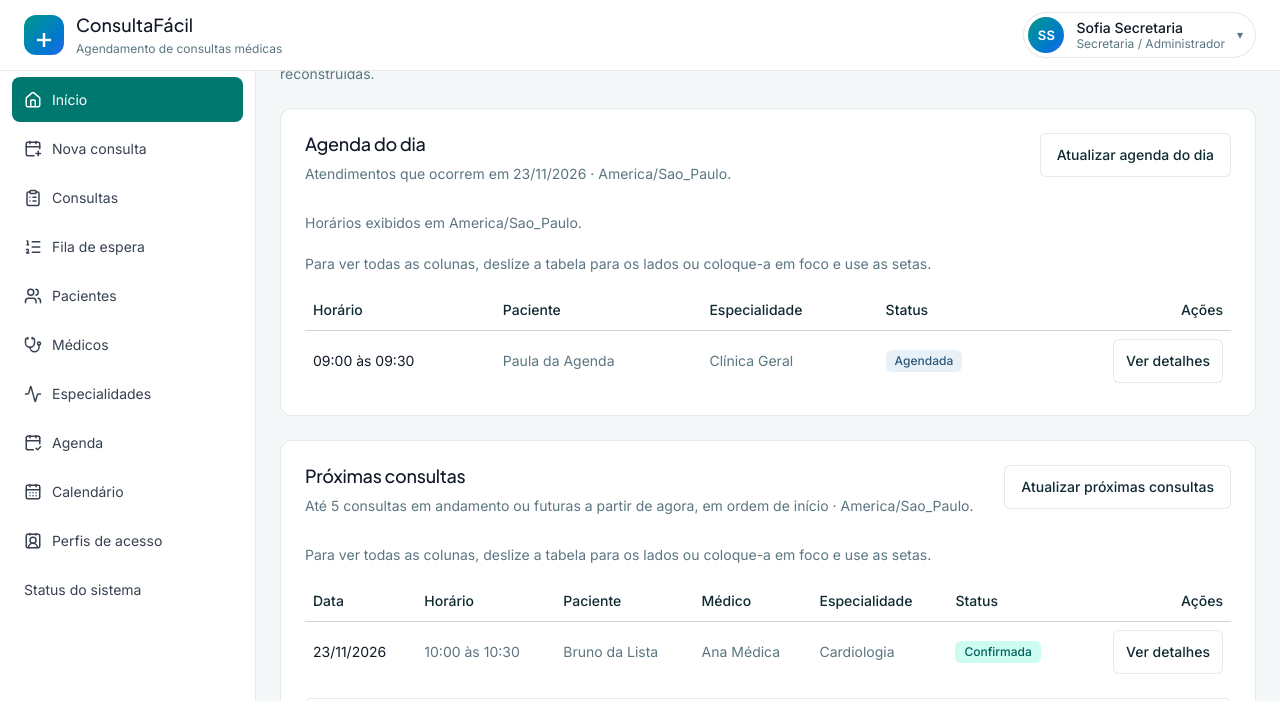
Scenario: abre o detalhe existente pela tabela Consultas na agenda do dia e volta com os filtros preservados
(page scrolled)
expect the text "Paula da Agenda" is shown: met, box [495,331,701,391]
expect the button "Cancelar consulta" is not shown: met
Click the link with aria-label "Ver detalhes da consulta": [1168, 361] box [1113,339,1223,383]
(page scrolled)
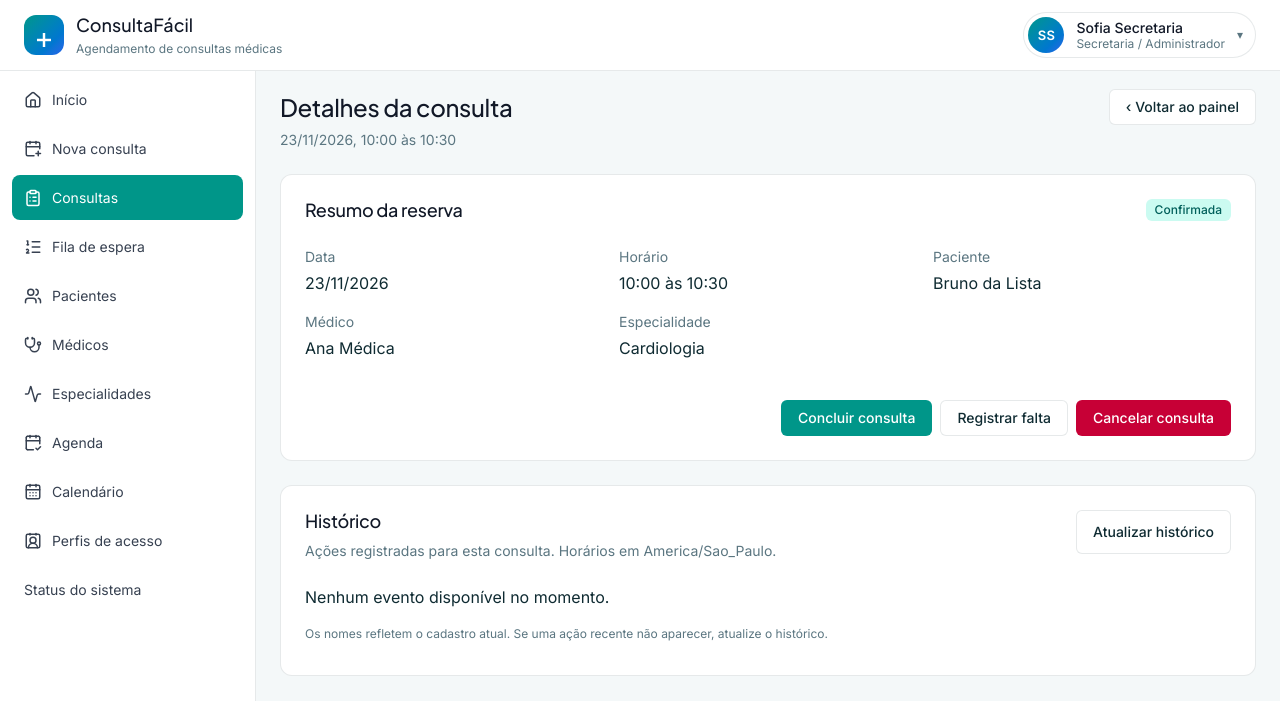
expect the heading "Detalhes da consulta" is shown: met, box [280,89,512,125]
Click the link "‹ Voltar ao painel": [1182, 107] box [1109,89,1256,125]
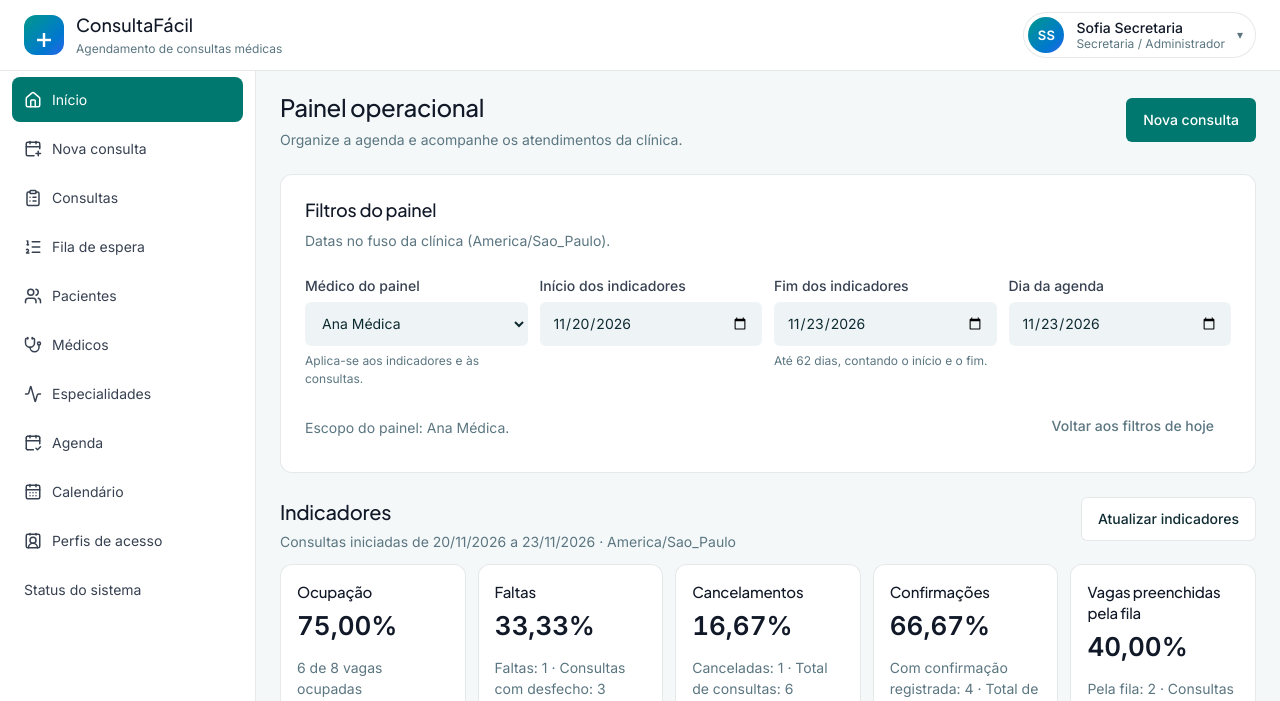
expect the dropdown labelled "Médico do painel" shows "Ana Médica": met, box [305,302,528,346]
expect the date field labelled "Início dos indicadores" holds "2026-11-20": met, box [540,302,762,346]
expect the date field labelled "Fim dos indicadores" holds "2026-11-23": met, box [774,302,996,346]
